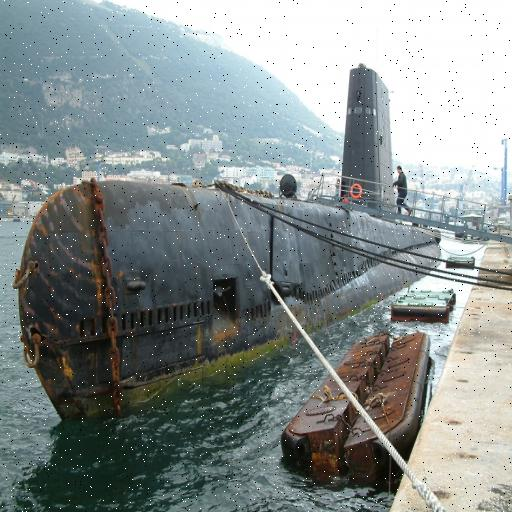submarine: (8, 51, 457, 443)
